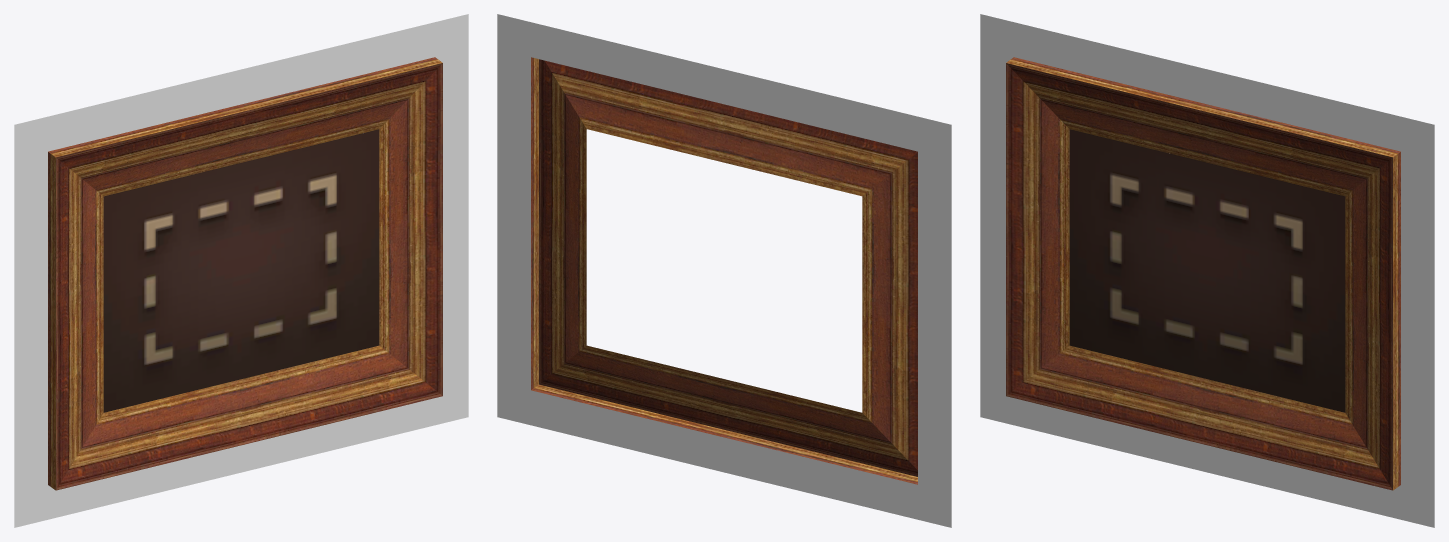
File: Frame_04_Small.dae
The picture shows the model from 3 angles, left to right: view 1: azimuth 30°, elevation 25°; view 2: azimuth 150°, elevation 25°; view 3: azimuth 330°, elevation 25°; orthographic projection.
Visible parts, largest first — view 1: Frame_04_Small (×3); view 2: Frame_04_Small (×2); view 3: Frame_04_Small (×3).
Part boxes in pixels (box(x1,y1,x2,y2)): Frame_04_Small (×3): box(14, 14, 468, 527); Frame_04_Small (×2): box(497, 14, 951, 527); Frame_04_Small (×3): box(980, 14, 1434, 527).
Bounding box in the file's own units: 272 × 231 × 8.27.
3 materials, 3 textured.
